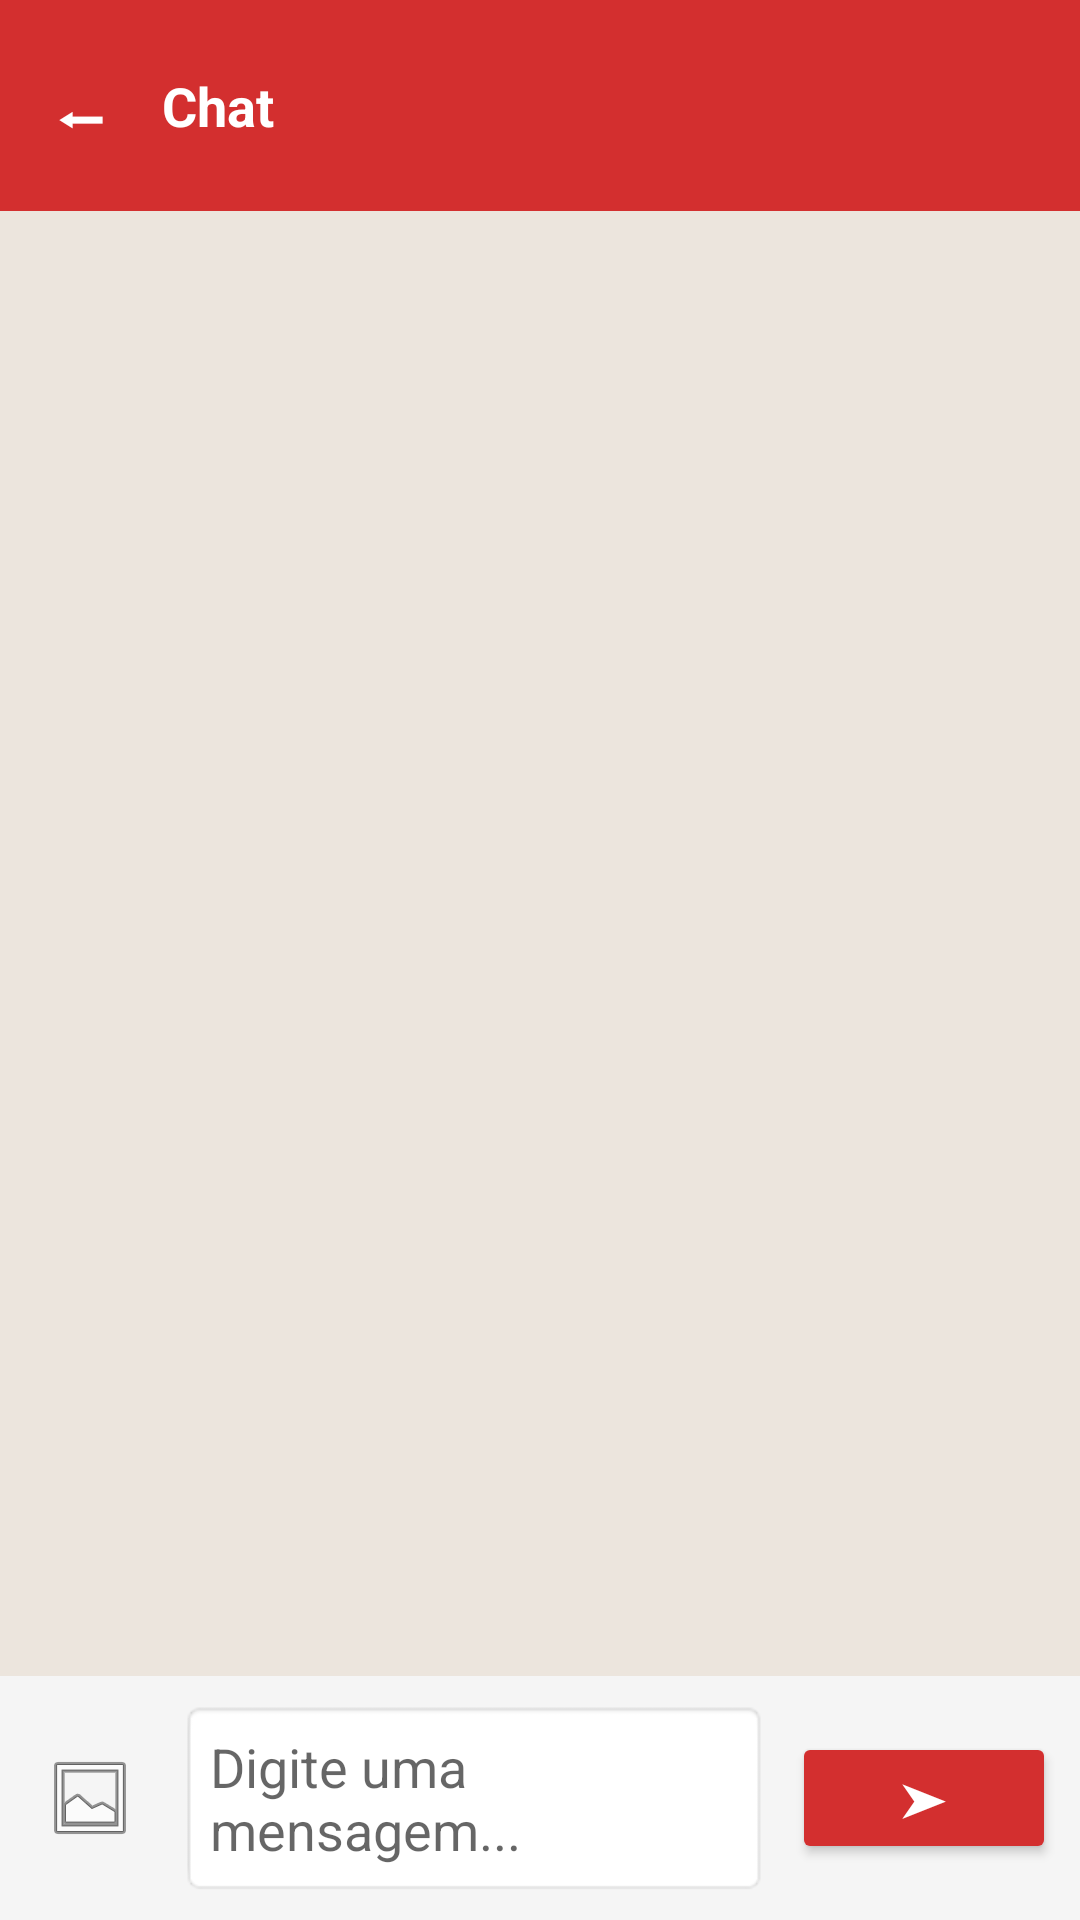

Named icons in this screenshot (1080px x 1920px) and their centers, (x,y):
Anexar foto: (90,1798)
